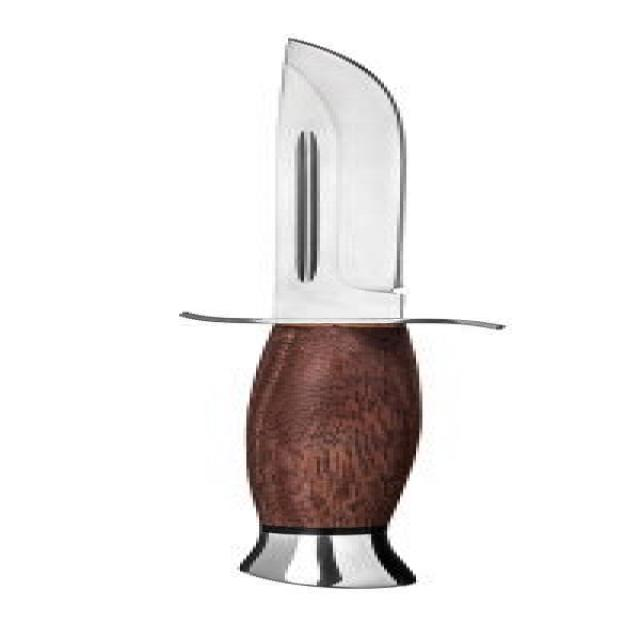knife: (196, 29, 513, 599)
